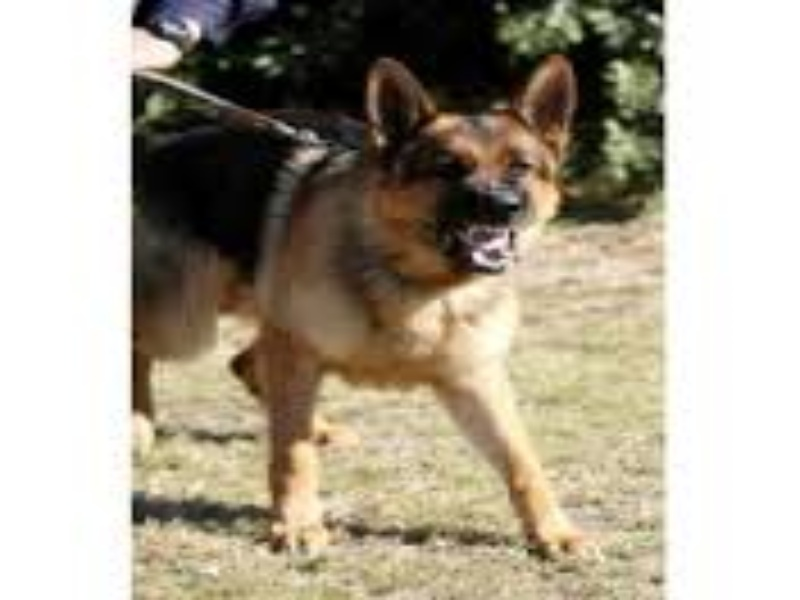dog: (130, 70, 615, 574)
